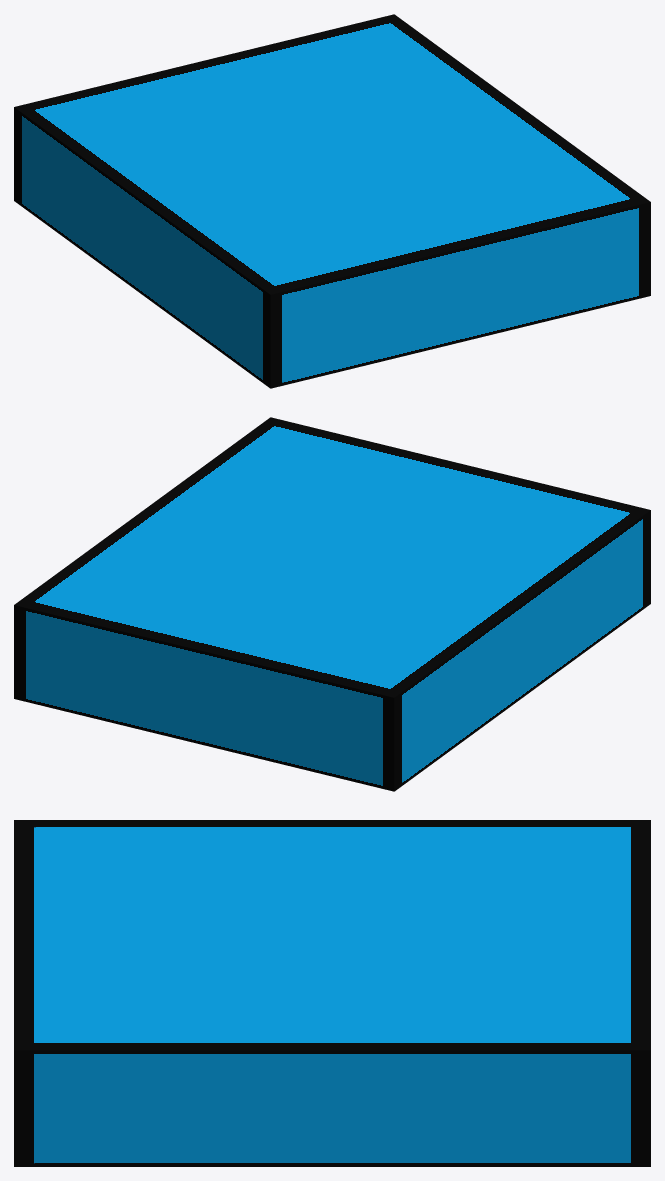
Rendered from Ugokuyuka_zengo2.FBX.
3 views of the same model, one above another, from view 1: azimuth 30°, elevation 25°; view 2: azimuth 150°, elevation 25°; view 3: azimuth 270°, elevation 25° (orthographic). The views are drawn at different scales.
Parts seen in each view (by area): view 1: Box001; view 2: Box001; view 3: Box001.
Boxes of the visible parts, bbox=[...] form: Box001: bbox=[14, 14, 650, 388]; Box001: bbox=[14, 417, 650, 791]; Box001: bbox=[14, 820, 650, 1166].
Bounding box in the file's own units: 14167 × 16552 × 3341.
Materials: 1 (1 with a texture image).
